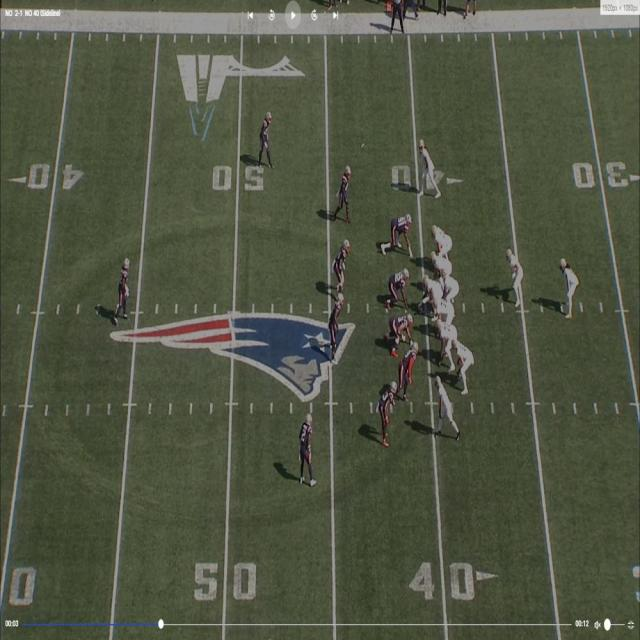center: (419, 282, 437, 322)
db: (301, 416, 317, 485), (378, 382, 394, 444), (118, 254, 130, 326), (260, 108, 271, 166)
lb: (399, 340, 418, 394), (332, 240, 350, 294), (326, 294, 342, 354), (339, 165, 353, 220)
qb: (440, 267, 460, 300)
skill: (437, 379, 459, 440), (450, 336, 473, 393), (420, 140, 441, 201), (506, 247, 524, 309), (563, 259, 578, 316)
